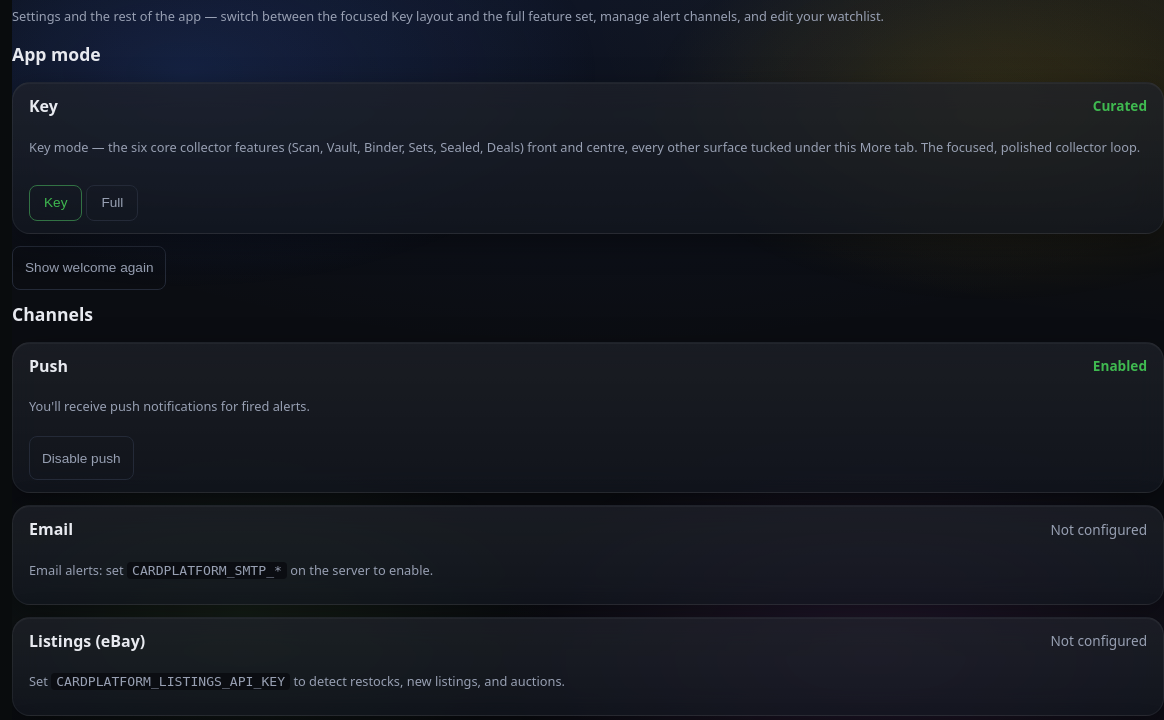
Test case: More - push can be turned off › unsubscribes the browser AND deletes the server record
Click the button "Disable push" at {"x": 81, "y": 458}, box top-left (29, 436), bottom-right (134, 480)
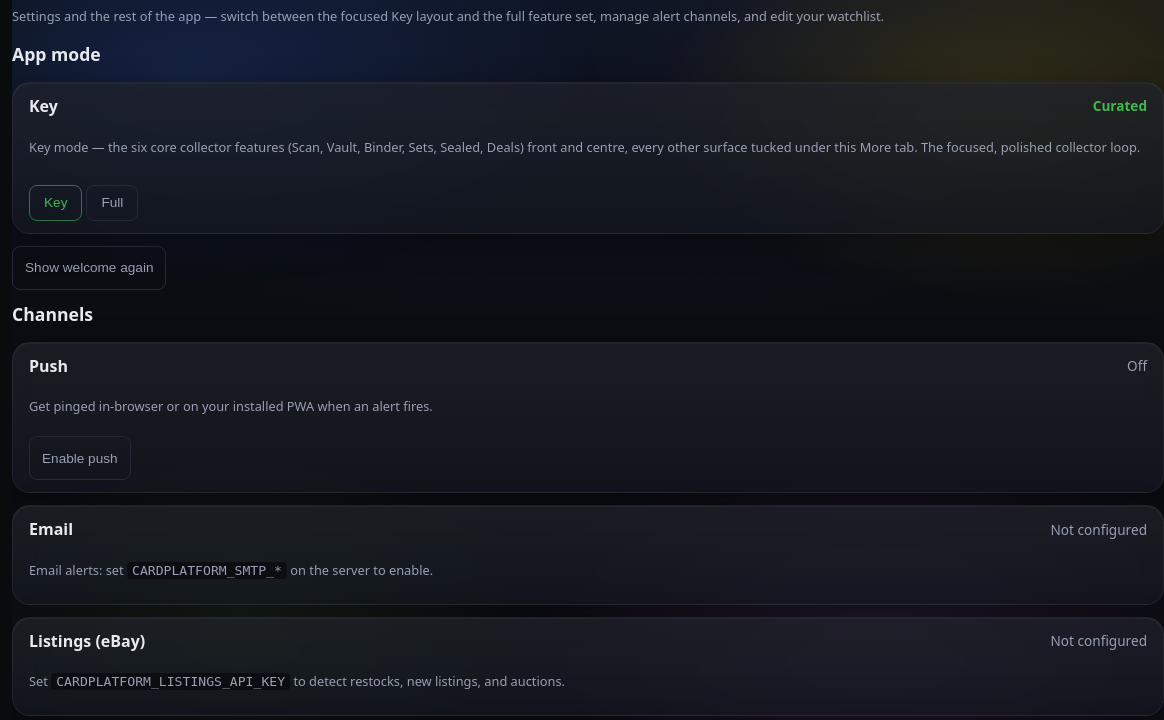
Now the text "Enable push" is shown, box top-left (29, 436), bottom-right (131, 480)
Now the text "Off" is shown, box top-left (1127, 356), bottom-right (1147, 375)
